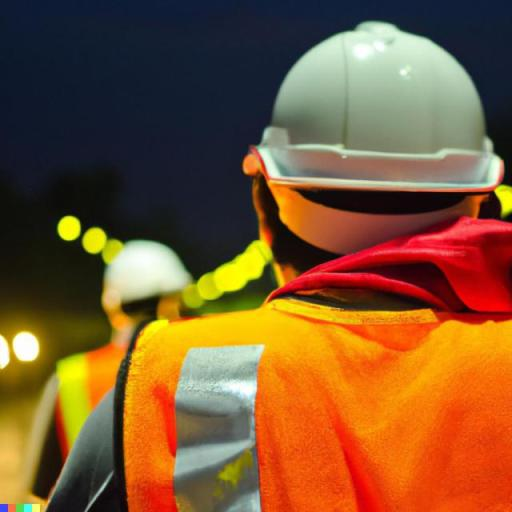helmet: (242, 20, 512, 210), (96, 236, 198, 310)
vest: (20, 241, 512, 509)
